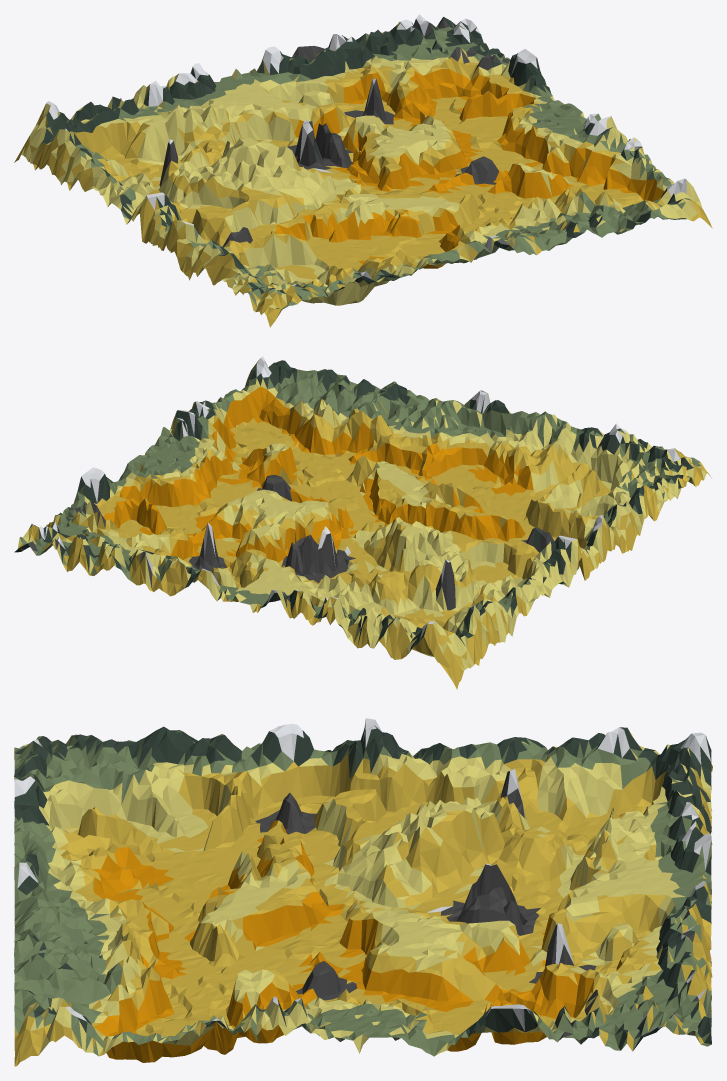
The model's file is terrain_lake_lowpoly.fbx.
3 renders of one model, top to bottom at view 1: azimuth 30°, elevation 25°; view 2: azimuth 150°, elevation 25°; view 3: azimuth 270°, elevation 25°, orthographic. The views are drawn at different scales.
Parts seen in each view (by area): view 1: Terrain_lake; view 2: Terrain_lake; view 3: Terrain_lake.
Boxes of the visible parts, <box> form: Terrain_lake: <box>14,14,712,327</box>; Terrain_lake: <box>14,356,711,689</box>; Terrain_lake: <box>14,718,712,1066</box>.
Bounding box in the file's own units: 50187 × 6394 × 50150.
